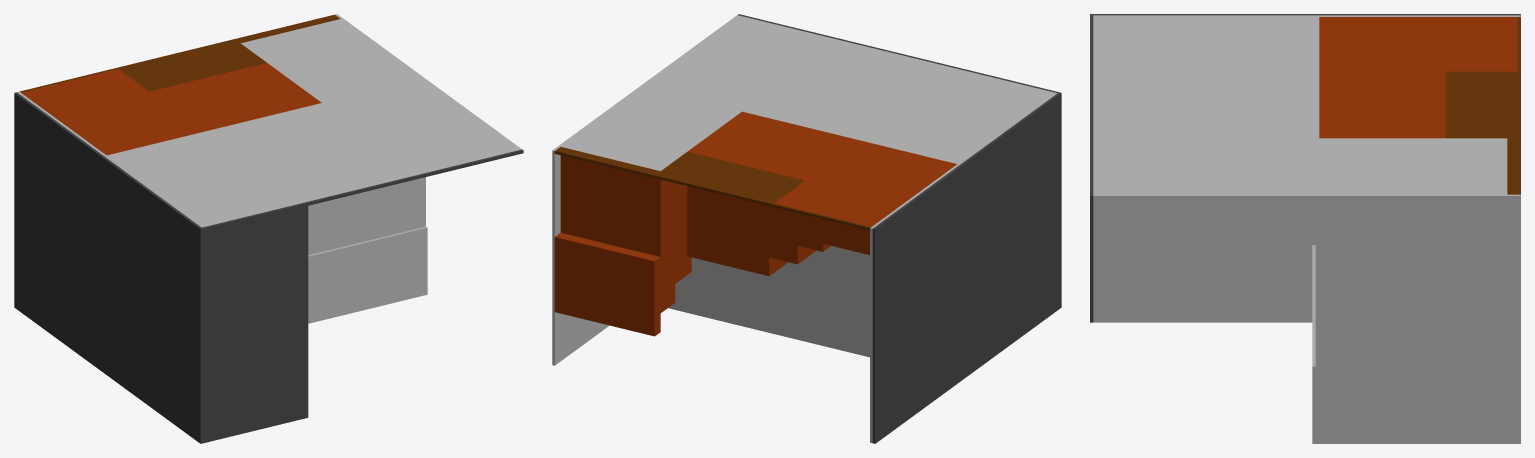
Rendered from 4x2 first (2)-7.obj.
3 views of the same model, side by side, from view 1: azimuth 30°, elevation 25°; view 2: azimuth 150°, elevation 25°; view 3: azimuth 270°, elevation 25° (orthographic). The views are drawn at different scales.
Parts seen in each view (by area): view 1: 4x2 first (2)-7; view 2: 4x2 first (2)-7; view 3: 4x2 first (2)-7.
Boxes of the visible parts, left/top/right/bottom form: 4x2 first (2)-7: left=14, top=14, right=523, bottom=443; 4x2 first (2)-7: left=552, top=14, right=1061, bottom=443; 4x2 first (2)-7: left=1090, top=14, right=1520, bottom=443.
Size of the model in its own units: 126 by 80 by 126.
Materials: 1 (1 with a texture image).
